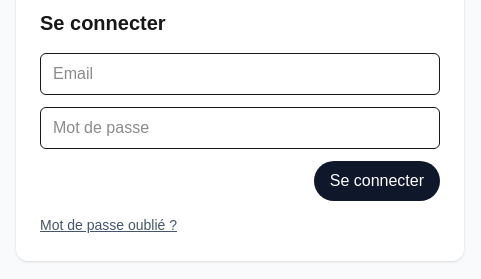
Test case: LoginPage › disables button and shows loading text while submitting
The width and height of the screenshot is (481, 279).
Step 1. Click the button "Se connecter" → (377, 181), box [314,161,440,201]
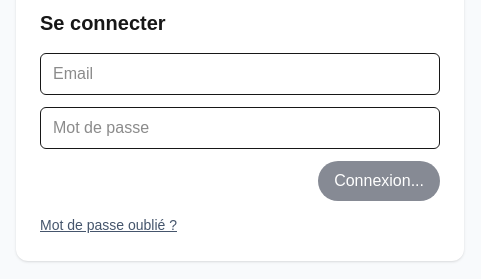
Expected: the button "Connexion..." is disabled, [318,161,440,201]
